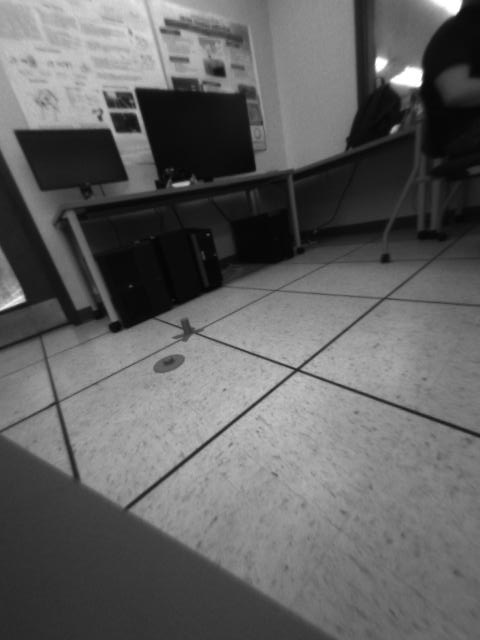X: (172, 319, 205, 342)
